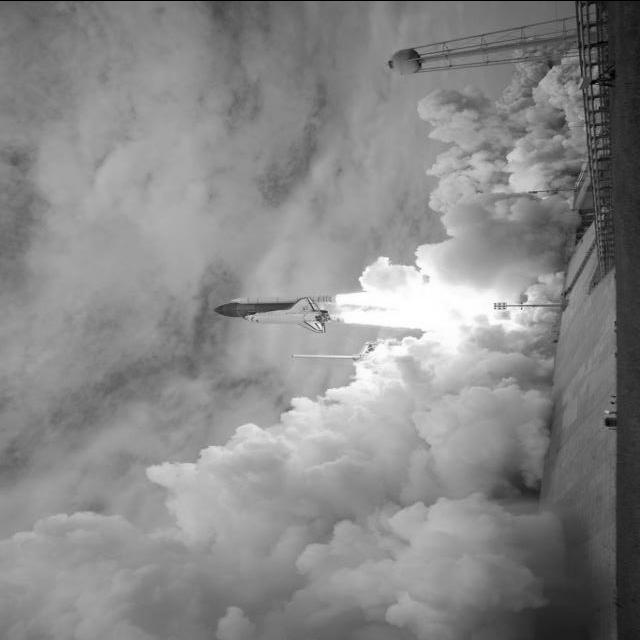missile: (230, 292, 348, 306), (289, 352, 366, 358)
